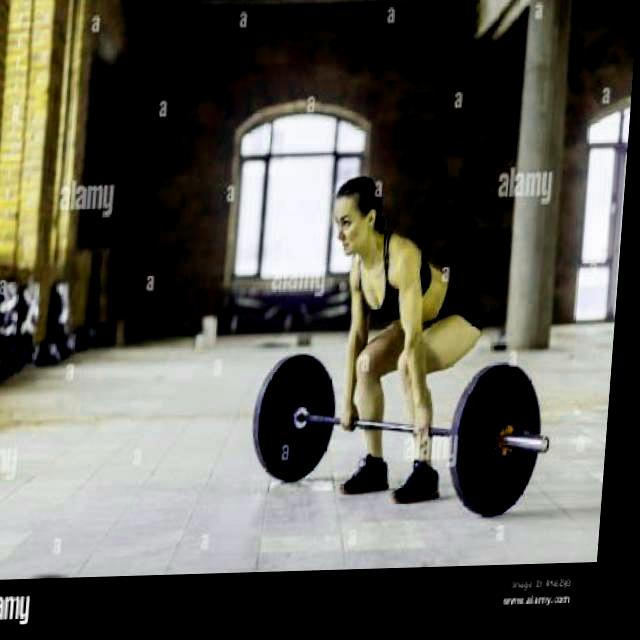barbell: (450, 359, 577, 529)
